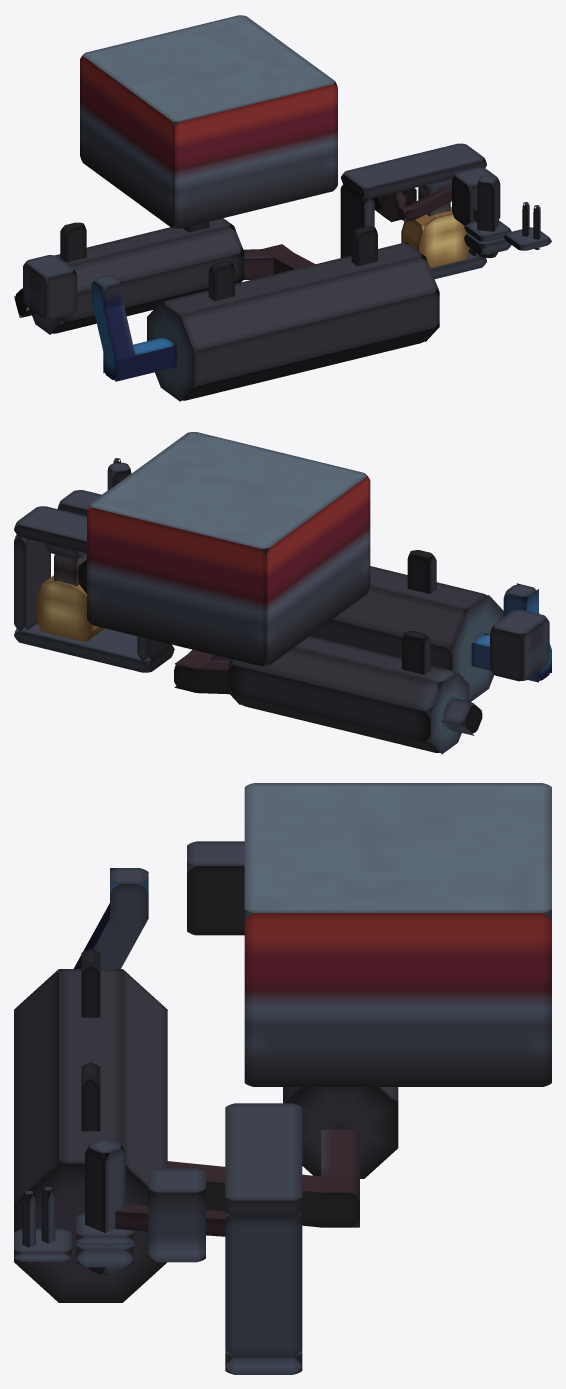
The model's file is gc220ii_equipment_2.obj.
3 renders of one model, top to bottom at view 1: azimuth 30°, elevation 25°; view 2: azimuth 150°, elevation 25°; view 3: azimuth 270°, elevation 25°, orthographic. The views are drawn at different scales.
Visible parts, largest first — view 1: gc220ii_equipment_2; view 2: gc220ii_equipment_2; view 3: gc220ii_equipment_2.
Part boxes in pixels (x1,y1,x2,y2): gc220ii_equipment_2: (14,15,551,401); gc220ii_equipment_2: (14,432,551,753); gc220ii_equipment_2: (14,783,551,1374).
Bounding box in the file's own units: 2.77 × 1.31 × 1.75.
